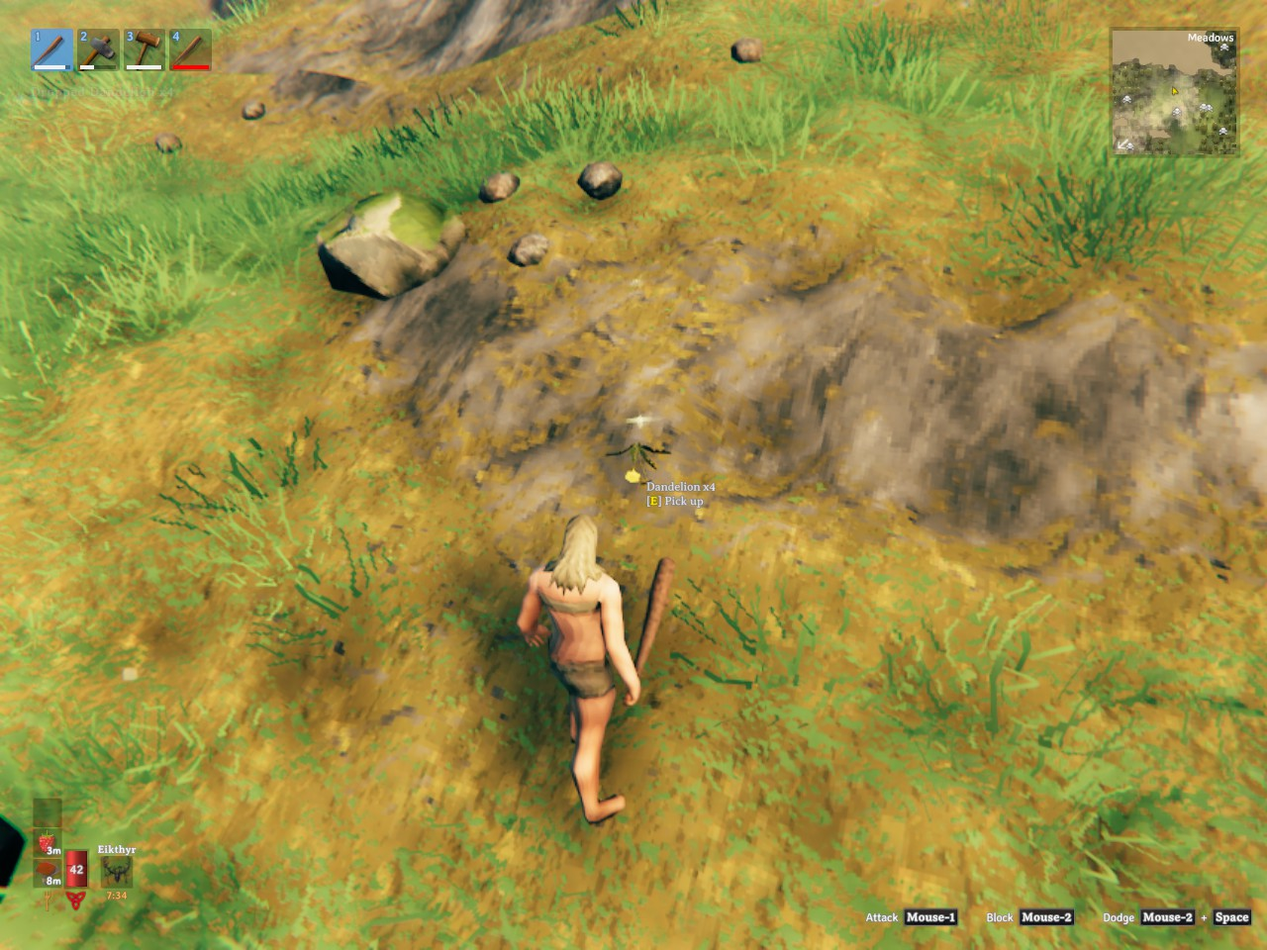Club: (635, 558, 675, 675)
Food Indicator: (36, 829, 63, 891)
Health Bar: (63, 845, 90, 891)
Hotbar: (25, 21, 398, 78)
